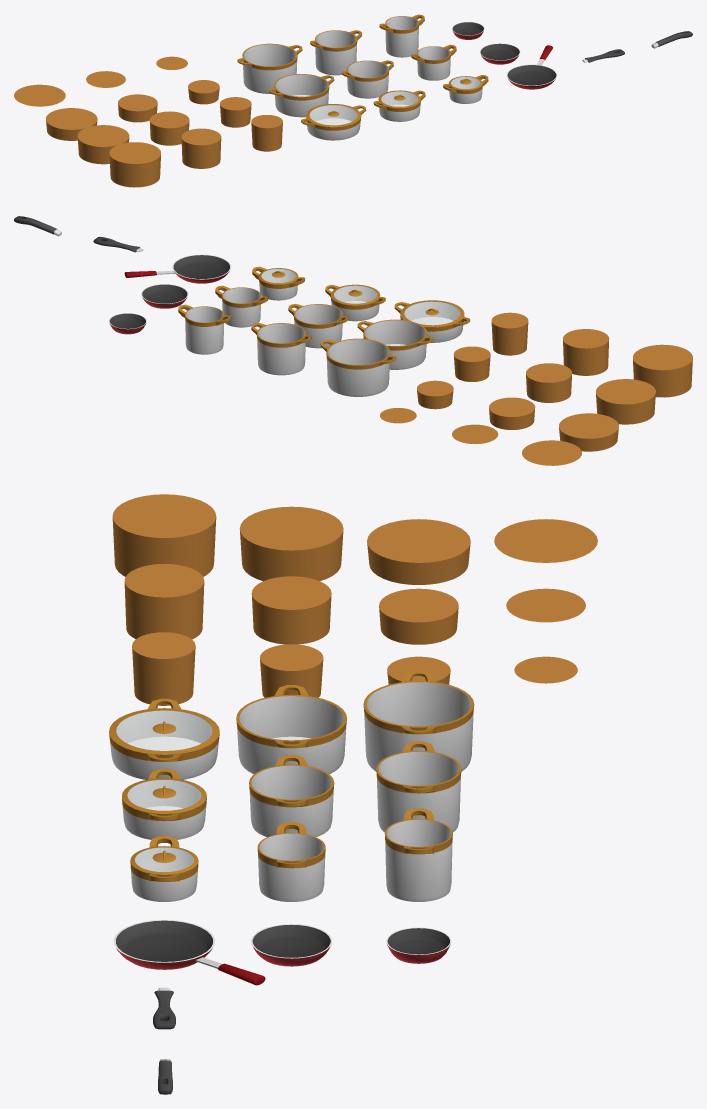
File: cookwares.fbx
3 renders of one model, top to bottom at view 1: azimuth 30°, elevation 25°; view 2: azimuth 150°, elevation 25°; view 3: azimuth 270°, elevation 25°, orthographic. The views are drawn at different scales.
Parts seen in each view (by area): view 1: pot_Long_p1, pot_Long_1_Liquid, pot_Medium_p1, pot_Long_p2, pot_p1, pot_Medium_p2, pot_Medium_1_Liquid, pot_Long_2_Liquid, pot_Long_p3, pot_1_Liquid, pot_Medium_p3, pot_Medium_2_Liquid (+15 smaller); view 2: pot_Long_p1, pot_Long_1_Liquid, pot_Long_p2, pot_Medium_1_Liquid, pot_Medium_p1, pot_Long_2_Liquid, pot_Long_p3, pot_1_Liquid, pot_Medium_p2, pot_p1, pot_Medium_2_Liquid, pot_Medium_p3 (+15 smaller); view 3: pot_Long_p1, pot_Medium_p1, pot_Long_1_Liquid, pot_Medium_1_Liquid, pot_1_Liquid, pot_Long_p2, pot_p1, pot_Medium_p2, pot_Long_p3, pot_Long_2_Liquid, pot_Medium_2_Liquid, pot_Medium_p3 (+15 smaller).
Part boxes in pixels (x1=…): pot_Long_p1: x1=237, y1=43, x2=302, y2=93; pot_Long_1_Liquid: x1=109, y1=142, x2=160, y2=187; pot_Medium_p1: x1=269, y1=74, x2=334, y2=117; pot_Long_p2: x1=310, y1=30, x2=361, y2=75; pot_p1: x1=301, y1=105, x2=366, y2=140; pot_Medium_p2: x1=342, y1=60, x2=393, y2=98; pot_Medium_1_Liquid: x1=77, y1=125, x2=129, y2=164; pot_Long_2_Liquid: x1=181, y1=128, x2=221, y2=168; pot_Long_p3: x1=379, y1=14, x2=424, y2=57; pot_1_Liquid: x1=46, y1=108, x2=97, y2=140; pot_Medium_p3: x1=411, y1=44, x2=456, y2=80; pot_Medium_2_Liquid: x1=149, y1=111, x2=189, y2=145; pot_Long_p1: x1=320, y1=338, x2=396, y2=396; pot_Long_1_Liquid: x1=633, y1=344, x2=692, y2=397; pot_Long_p2: x1=251, y1=323, x2=311, y2=375; pot_Medium_1_Liquid: x1=596, y1=379, x2=655, y2=424; pot_Medium_p1: x1=357, y1=319, x2=433, y2=369; pot_Long_2_Liquid: x1=563, y1=329, x2=609, y2=375; pot_Long_p3: x1=178, y1=304, x2=230, y2=354; pot_1_Liquid: x1=559, y1=413, x2=618, y2=451; pot_Medium_p2: x1=288, y1=304, x2=348, y2=348; pot_p1: x1=394, y1=301, x2=470, y2=342; pot_Medium_2_Liquid: x1=526, y1=363, x2=572, y2=402; pot_Medium_p3: x1=215, y1=285, x2=267, y2=327; pot_Long_p1: x1=363, y1=671, x2=474, y2=771; pot_Medium_p1: x1=236, y1=685, x2=346, y2=774; pot_Long_1_Liquid: x1=112, y1=494, x2=216, y2=576; pot_Medium_1_Liquid: x1=239, y1=506, x2=343, y2=581; pot_1_Liquid: x1=367, y1=519, x2=470, y2=584; pot_Long_p2: x1=376, y1=741, x2=461, y2=832; pot_p1: x1=109, y1=698, x2=219, y2=779; pot_Medium_p2: x1=249, y1=755, x2=334, y2=836; pot_Long_p3: x1=384, y1=808, x2=452, y2=901; pot_Long_2_Liquid: x1=124, y1=564, x2=204, y2=639; pot_Medium_2_Liquid: x1=251, y1=576, x2=331, y2=644; pot_Medium_p3: x1=257, y1=822, x2=325, y2=901.
Size of the model in its own units: 26.29 by 9.61 by 1.29.
